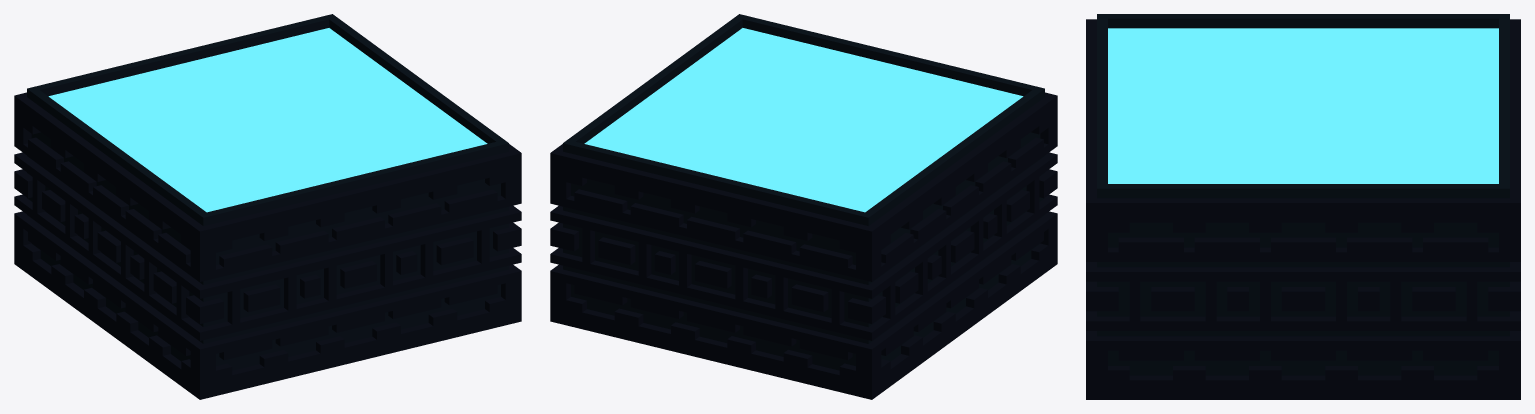
File: Block_Base_Single.glb
3 renders of one model, left to right at view 1: azimuth 30°, elevation 25°; view 2: azimuth 150°, elevation 25°; view 3: azimuth 270°, elevation 25°, orthographic. The views are drawn at different scales.
Visible parts, largest first — view 1: Block_Base_Single; view 2: Block_Base_Single; view 3: Block_Base_Single.
Part boxes in pixels (left/top/right/bottom): Block_Base_Single: left=14, top=14, right=521, bottom=399; Block_Base_Single: left=550, top=14, right=1057, bottom=399; Block_Base_Single: left=1086, top=14, right=1520, bottom=399.
Size of the model in its own units: 1 by 0.525 by 1.
